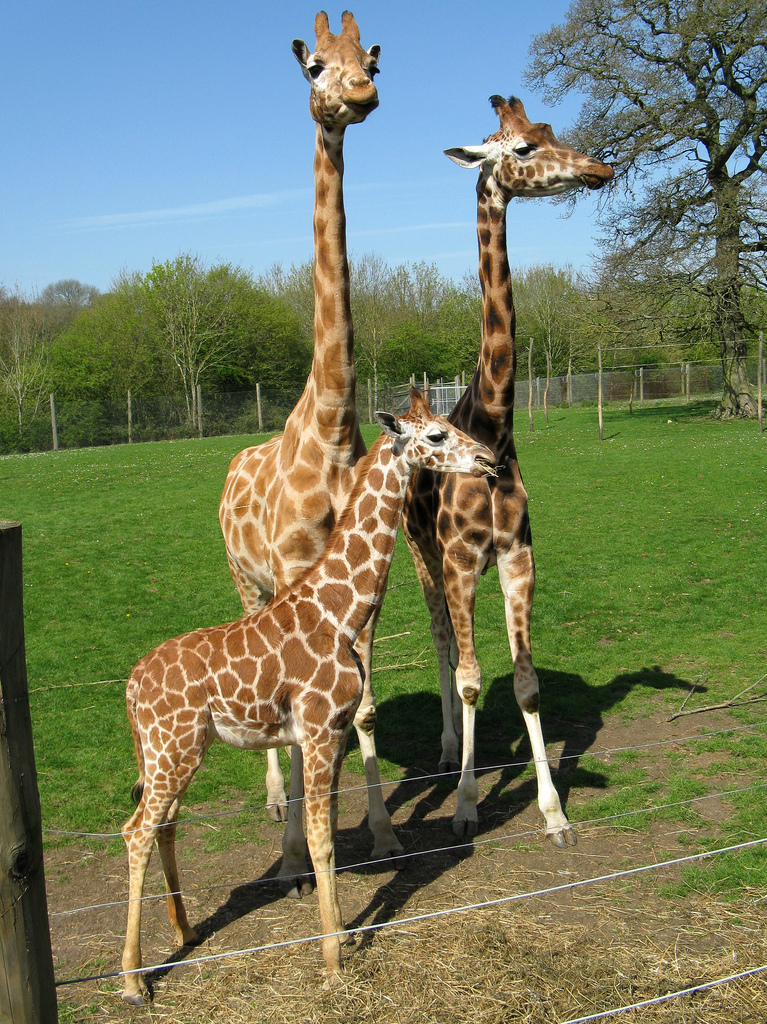giraffe: (97, 412, 480, 997), (418, 81, 622, 864), (257, 3, 383, 581)
